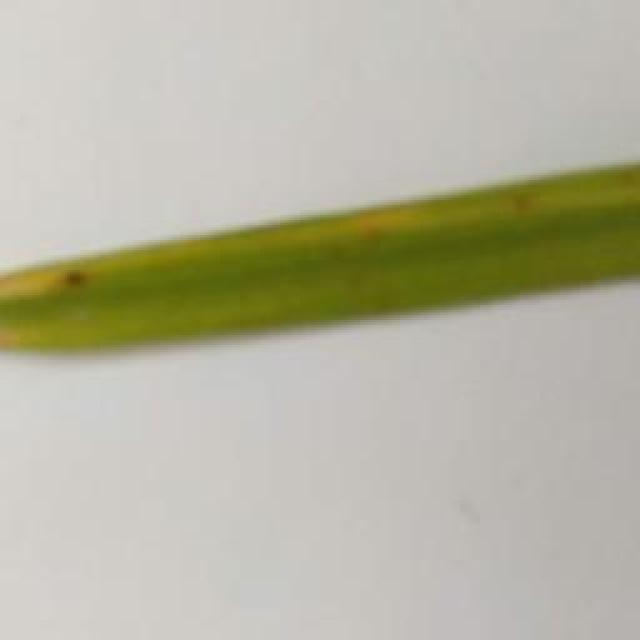Brown_Spot: (54, 269, 101, 293), (619, 164, 640, 189), (511, 198, 534, 215)
